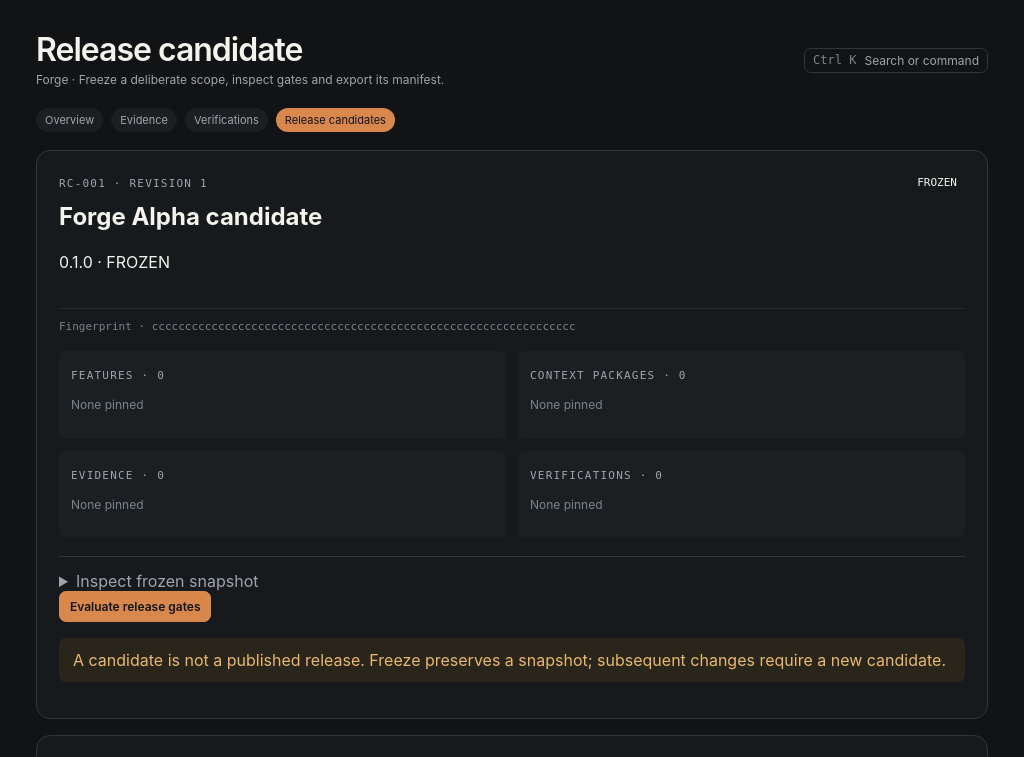
Scenario: Delivery feature routes and provenance › keeps a frozen candidate read-only and exposes its saved manifest downloads
The image size is (1024, 757).
Click the heading "Inspect frozen snapshot".
click(167, 581)  # box [76, 571, 258, 591]
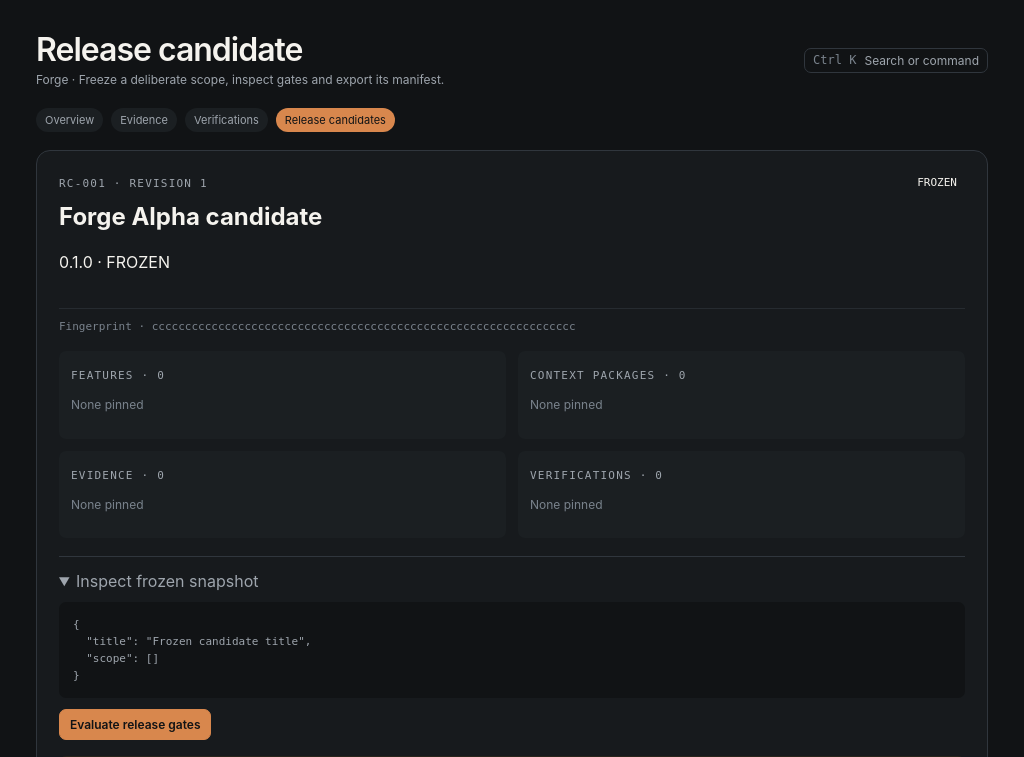
Now the text "{ \"title\": \"Frozen candidate title\", \"scope\": [] }" is shown, box [59, 602, 965, 698]
